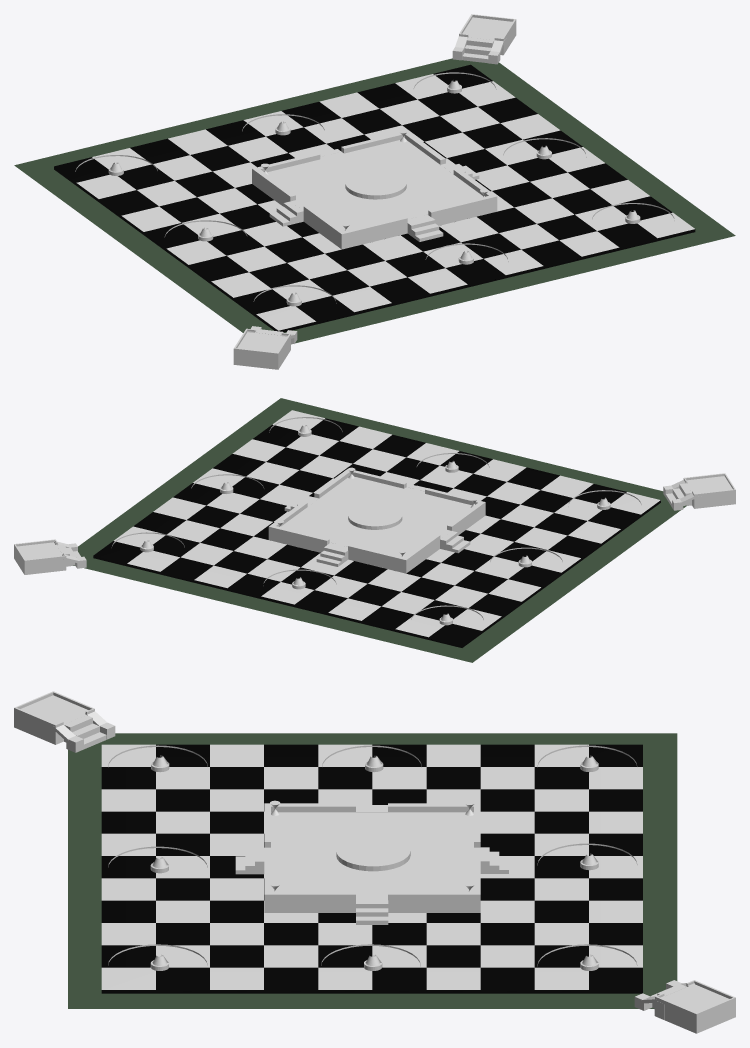
File: 3D_Map3_V7.gltf
3 views of the same model, one above another, from view 1: azimuth 30°, elevation 25°; view 2: azimuth 150°, elevation 25°; view 3: azimuth 270°, elevation 25° (orthographic). The views are drawn at different scales.
Visible parts, largest first — view 1: Chess, Board, Stage, Cube.005, MidStage, Cube.002, Stairs.001, Stairs.005, Stairs.003; view 2: Chess, Board, Stage, Cube.002, Cube.005, MidStage, Stairs.002, Stairs.003; view 3: Chess, Board, Stage, Cube.002, Cube.005, MidStage, Stairs.004, Stairs.006, Stairs.001, Stairs.002.
Part boxes in pixels (x1=…): Chess: x1=54, y1=64, x2=695, y2=332; Board: x1=14, y1=58, x2=735, y2=344; Stage: x1=252, y1=131, x2=497, y2=249; Cube.005: x1=233, y1=328, x2=290, y2=369; MidStage: x1=345, y1=169, x2=406, y2=199; Cube.002: x1=459, y1=14, x2=516, y2=55; Stairs.001: x1=407, y1=217, x2=443, y2=241; Stairs.005: x1=462, y1=37, x2=494, y2=63; Stairs.003: x1=269, y1=201, x2=303, y2=226; Chess: x1=93, y1=410, x2=660, y2=647; Board: x1=73, y1=398, x2=686, y2=662; Stage: x1=268, y1=469, x2=485, y2=573; Cube.002: x1=14, y1=539, x2=66, y2=574; Cube.005: x1=683, y1=473, x2=735, y2=508; MidStage: x1=348, y1=503, x2=402, y2=529; Stairs.002: x1=316, y1=545, x2=348, y2=566; Stairs.003: x1=440, y1=531, x2=470, y2=553; Chess: x1=101, y1=744, x2=642, y2=993; Board: x1=68, y1=733, x2=677, y2=1008; Stage: x1=264, y1=803, x2=480, y2=912; Cube.002: x1=655, y1=980, x2=735, y2=1033; Cube.005: x1=14, y1=691, x2=94, y2=744; MidStage: x1=336, y1=835, x2=410, y2=871; Stairs.004: x1=356, y1=900, x2=388, y2=924; Stairs.006: x1=64, y1=715, x2=106, y2=749; Stairs.001: x1=235, y1=847, x2=264, y2=874; Stairs.002: x1=480, y1=847, x2=508, y2=873.
Bounding box in the file's own units: 83.09 × 3.36 × 78.47.
